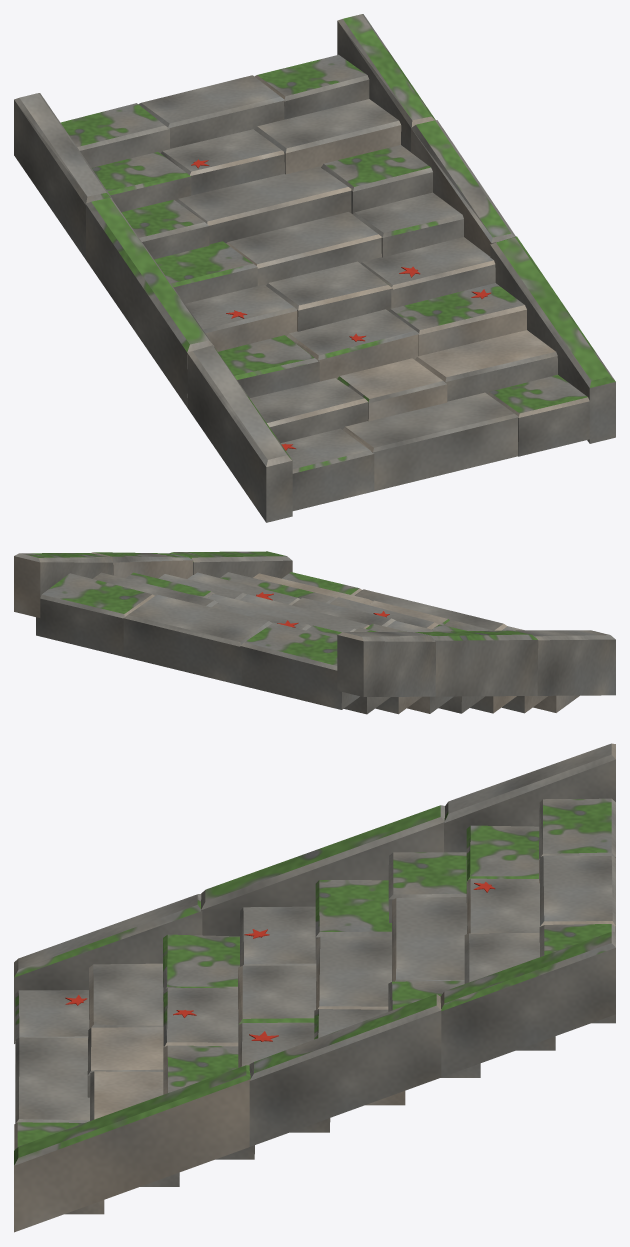
File: stone_stairs.fbx
3 views of the same model, one above another, from view 1: azimuth 30°, elevation 25°; view 2: azimuth 150°, elevation 25°; view 3: azimuth 270°, elevation 25° (orthographic). The views are drawn at different scales.
Parts seen in each view (by area): view 1: stone_stairs_Stone; view 2: stone_stairs_Stone; view 3: stone_stairs_Stone.
Part boxes in pixels (x1,y1,x2,y2): stone_stairs_Stone: (14, 14, 615, 522); stone_stairs_Stone: (14, 551, 615, 714); stone_stairs_Stone: (14, 743, 615, 1232).
Bounding box in the file's own units: 16.05 × 10.54 × 20.
1 material, 1 textured.
